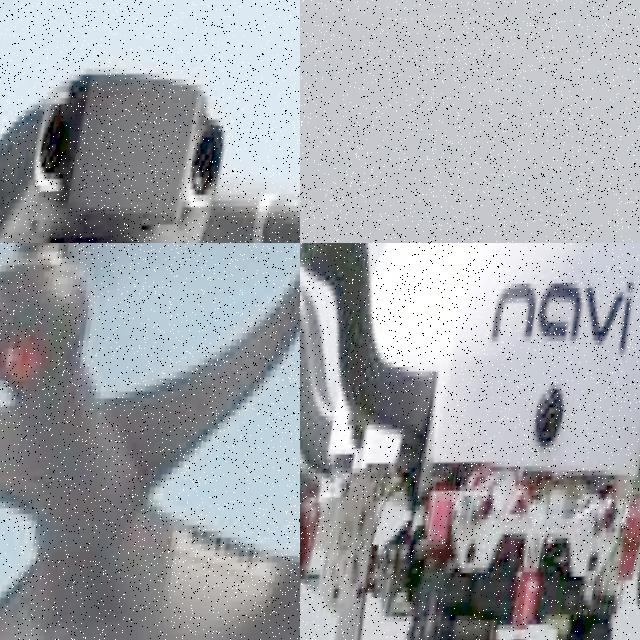drone: (300, 243, 640, 640), (0, 243, 300, 640), (0, 0, 300, 243)
